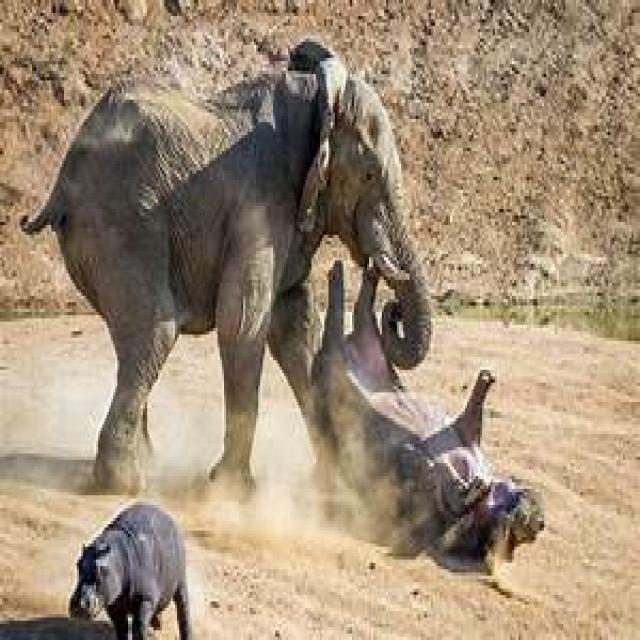elephant: (21, 42, 433, 492)
